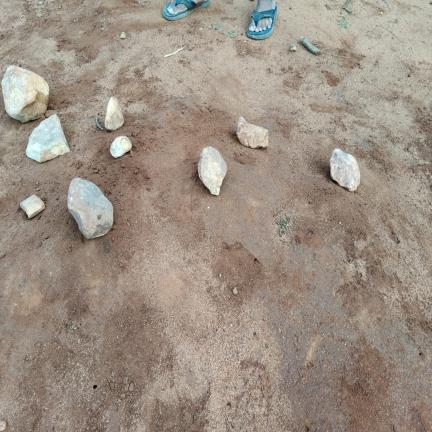Rocks: (68, 178, 113, 238), (2, 66, 49, 122), (26, 115, 69, 162), (198, 147, 226, 195), (331, 149, 360, 191), (236, 117, 268, 148), (105, 97, 123, 130), (20, 195, 45, 218), (111, 136, 132, 158), (0, 421, 7, 431), (290, 44, 297, 52), (232, 287, 238, 295), (120, 32, 126, 39), (129, 384, 133, 391)
